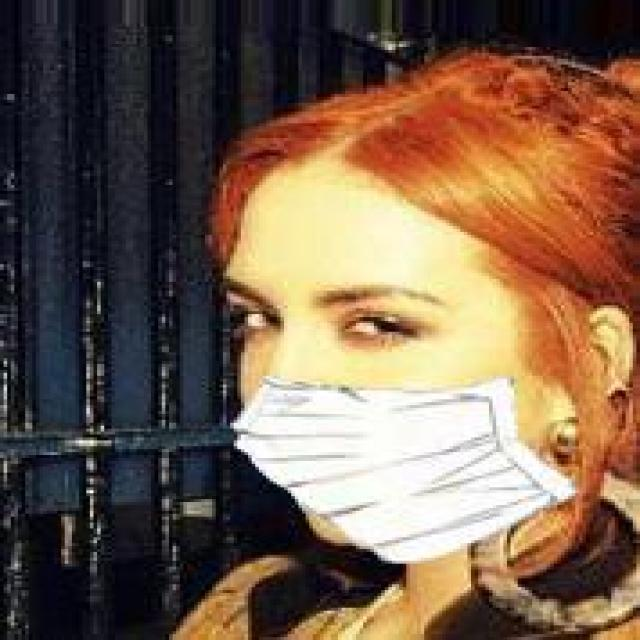mask: (108, 88, 608, 529)
